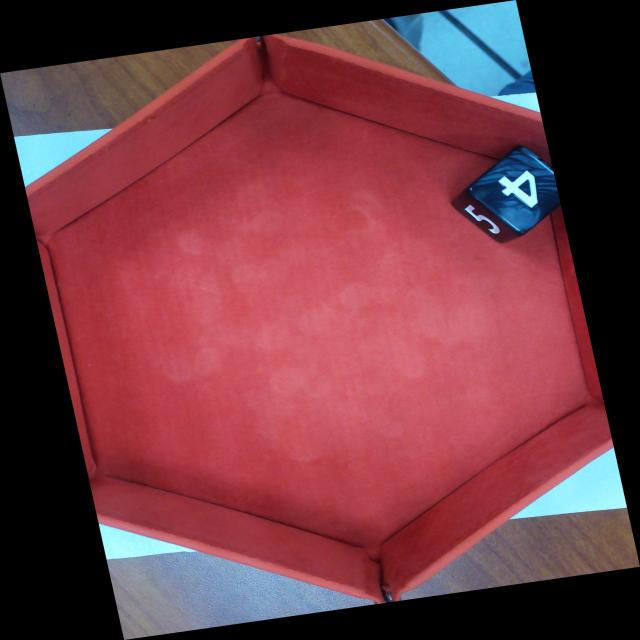dice: (464, 144, 579, 237)
